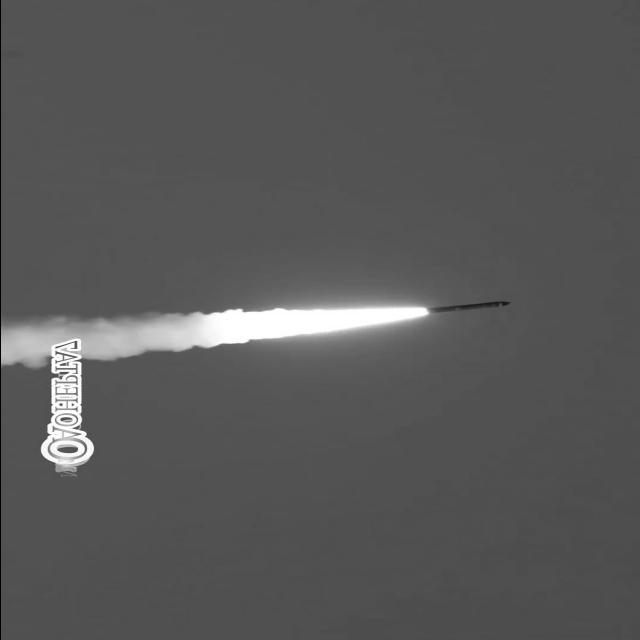Missile: (413, 296, 519, 324)
